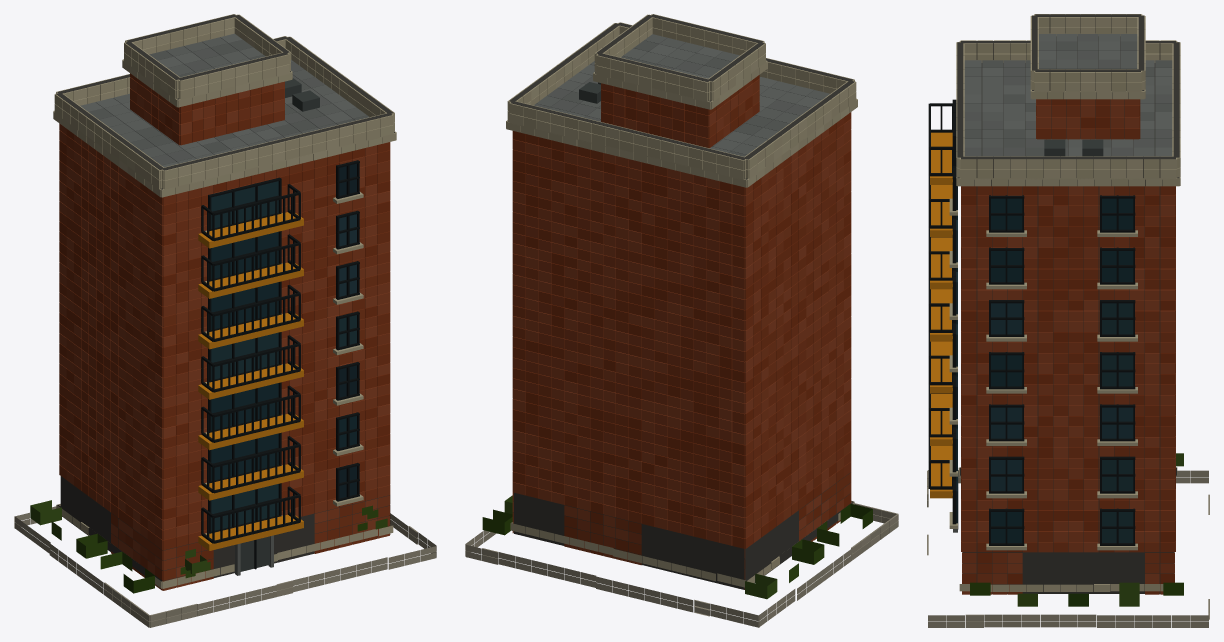
Rendered from SM_StreetFrontage_062.fbx.
3 views of the same model, side by side, from view 1: azimuth 30°, elevation 25°; view 2: azimuth 150°, elevation 25°; view 3: azimuth 270°, elevation 25° (orthographic). The views are drawn at different scales.
Visible parts, largest first — view 1: SM_StreetFrontage_062; view 2: SM_StreetFrontage_062; view 3: SM_StreetFrontage_062.
Part boxes in pixels (<box>): SM_StreetFrontage_062: <box>14,14,436,627</box>; SM_StreetFrontage_062: <box>465,14,898,627</box>; SM_StreetFrontage_062: <box>927,14,1209,627</box>.
Bounding box in the file's own units: 14 × 11.52 × 22.82.
